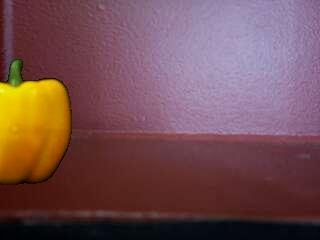Capsicum: (0, 59, 72, 186)
